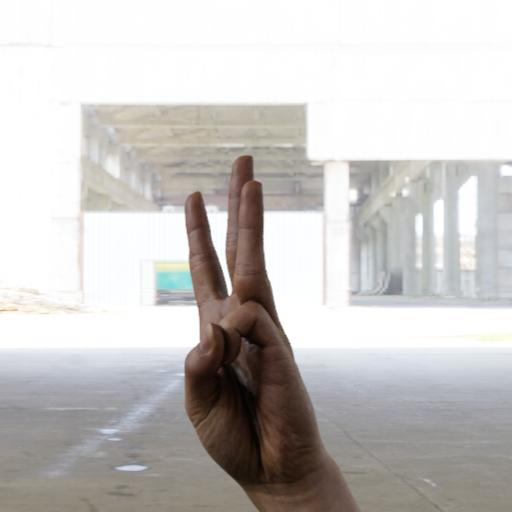W: (179, 146, 322, 498)
